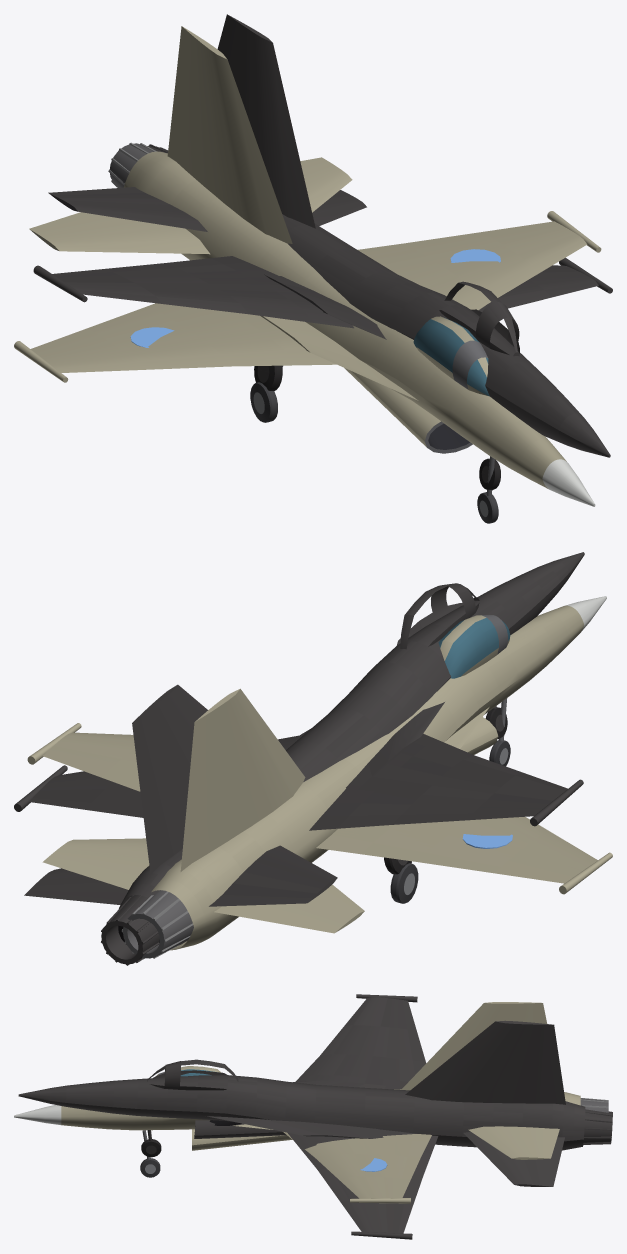
Rendered from lightFighter__kf_16c.glb.
3 views of the same model, one above another, from view 1: azimuth 30°, elevation 25°; view 2: azimuth 150°, elevation 25°; view 3: azimuth 270°, elevation 25° (orthographic). The views are drawn at different scales.
Visible parts, largest first — view 1: Fuselage_Mesh, Wreck; view 2: Fuselage_Mesh, Wreck; view 3: Wreck, Fuselage_Mesh.
Boxes of the visible parts, box(x1,y1,x2,y2) form: Fuselage_Mesh: box(14, 26, 601, 523); Wreck: box(33, 14, 612, 490); Fuselage_Mesh: box(27, 596, 612, 959); Wreck: box(14, 552, 584, 965); Wreck: box(18, 994, 612, 1239); Fuselage_Mesh: box(14, 1002, 608, 1203).
Size of what is drawn, in the model's own units: 10.4 by 4.88 by 15.2.
